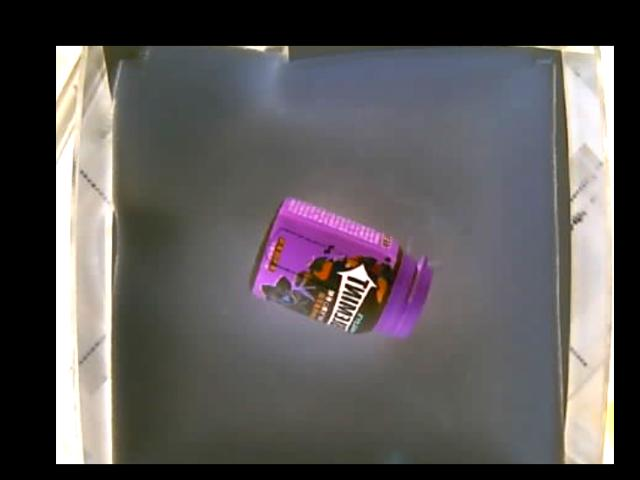Bottle: (249, 196, 430, 336)
